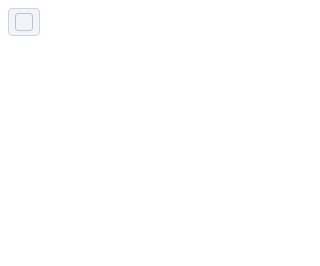
Test: Phase 8 UI: Fonts and Typography (Google-Docs-Style) › Task 8.10: ColorPickerPopover (Text Color & Highlight Color) › allows clearing highlight color when allowNone is true
Later steps or results of the test are not shown.
Click the button with test id "btn-color-picker-highlight": (24, 22) x1=8 y1=8 x2=40 y2=36
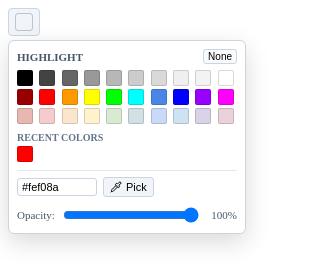
Result: the button with test id "btn-color-none" is shown at x1=203 y1=49 x2=237 y2=64
